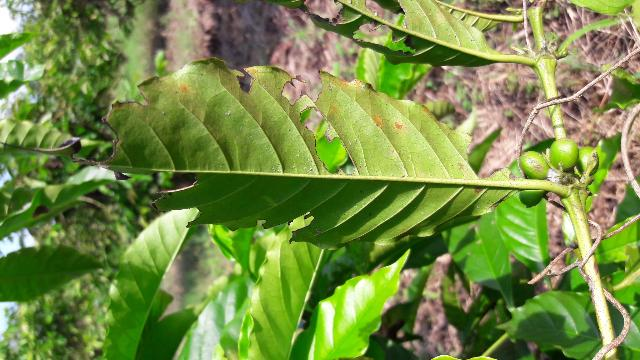rust_level_4: (46, 57, 513, 251)
